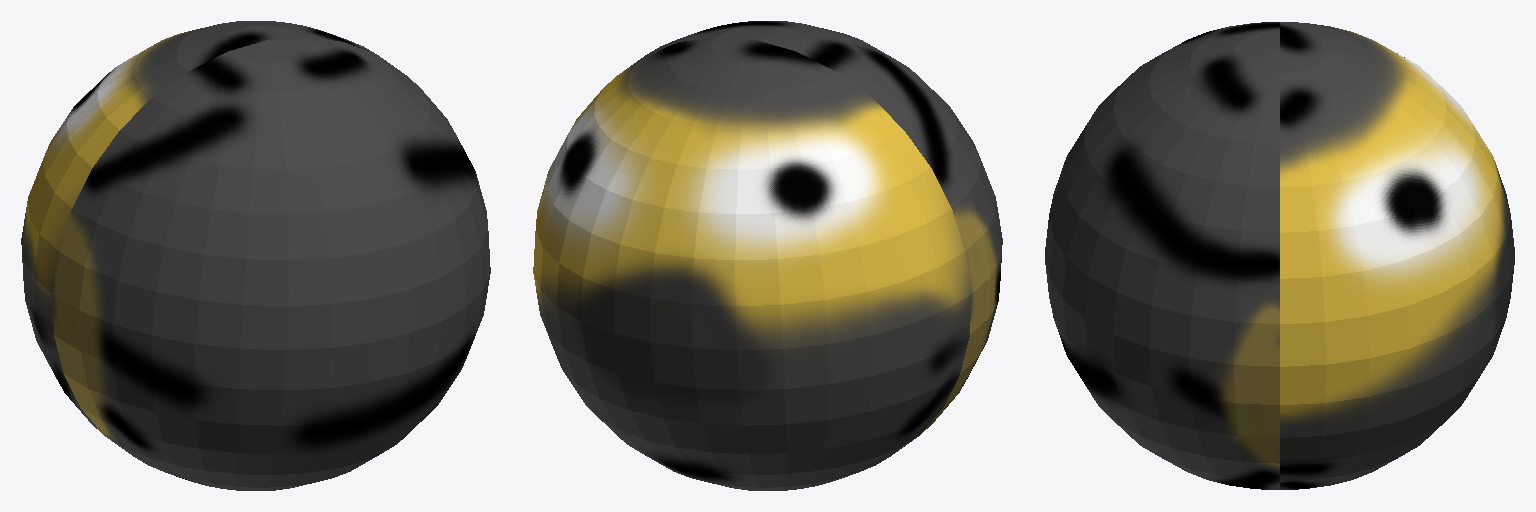
3 views of the same model, side by side, from view 1: azimuth 30°, elevation 25°; view 2: azimuth 150°, elevation 25°; view 3: azimuth 270°, elevation 25° (orthographic).
Parts seen in each view (by area): view 1: Sphere; view 2: Sphere; view 3: Sphere.
Part boxes in pixels (x1,y1,x2,y2): Sphere: (21,21,490,490); Sphere: (533,21,1002,490); Sphere: (1045,22,1514,489).
Size of the model in its own units: 2 by 2 by 2.
1 materials, 1 textured.